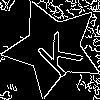K: (28, 23, 85, 80)
